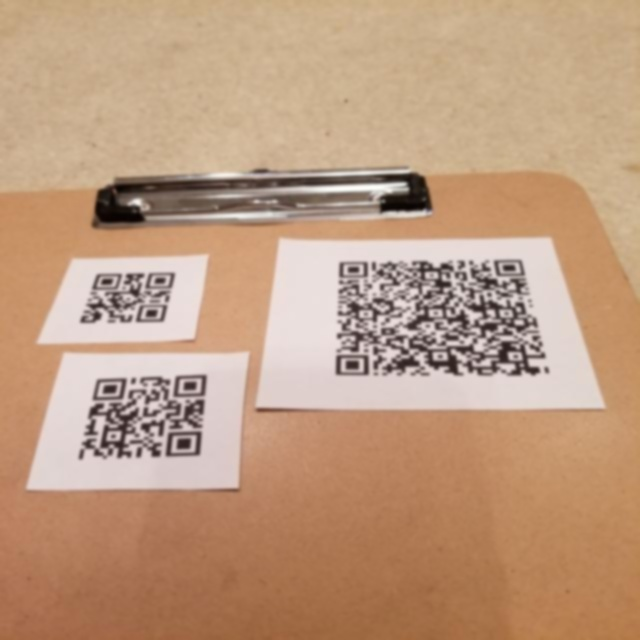qr-code: (326, 244, 556, 385), (64, 365, 222, 469), (66, 259, 189, 336)
